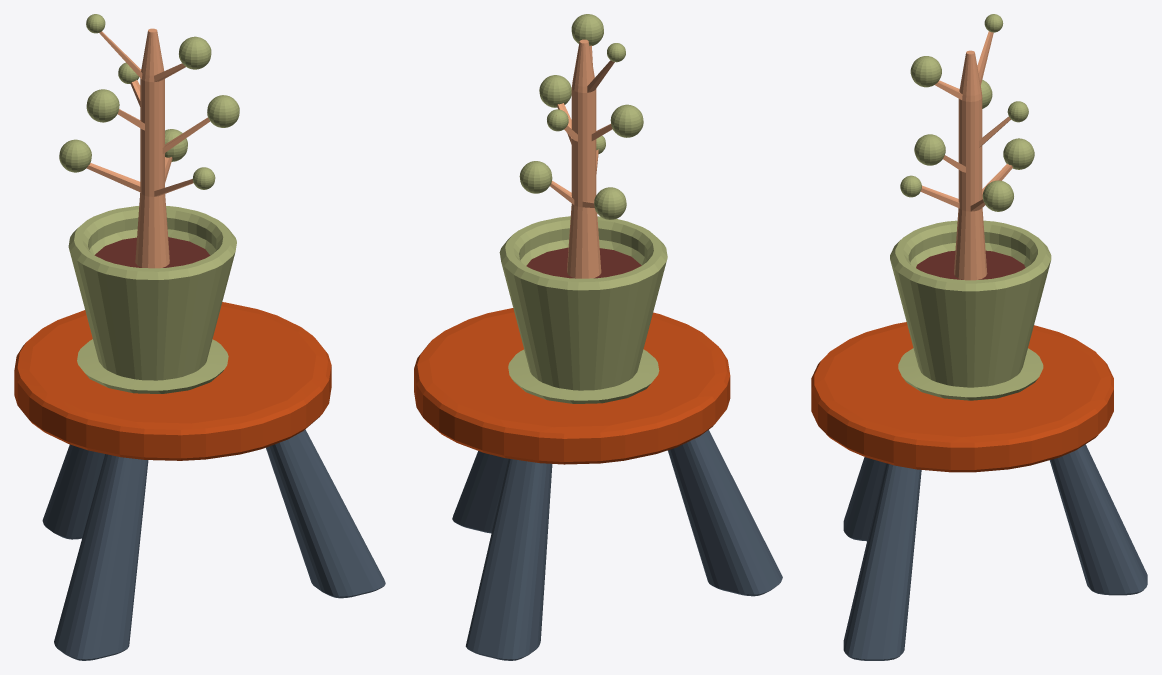
File: pot_table_entrance.fbx
3 views of the same model, side by side, from view 1: azimuth 30°, elevation 25°; view 2: azimuth 150°, elevation 25°; view 3: azimuth 270°, elevation 25° (orthographic). The views are drawn at different scales.
Parts seen in each view (by area): view 1: pot_table_entrance, Cube.037, Cube.027, Cube.023, Cube.021; view 2: pot_table_entrance, Cube.037, Cube.027, Cube.023, Cube.021; view 3: pot_table_entrance, Cube.037, Cube.027, Cube.023, Cube.021.
Boxes of the visible parts, box(x1,y1,x2,y2) form: pot_table_entrance: box(14, 302, 331, 460); Cube.037: box(59, 14, 239, 393); Cube.027: box(42, 429, 385, 660); Cube.023: box(86, 28, 210, 268); Cube.021: box(94, 237, 210, 267); pot_table_entrance: box(414, 308, 730, 464); Cube.037: box(499, 14, 667, 403); Cube.027: box(452, 430, 782, 660); Cube.023: box(550, 39, 614, 278); Cube.021: box(526, 247, 641, 278); pot_table_entrance: box(811, 322, 1113, 472); Cube.037: box(890, 14, 1051, 400); Cube.027: box(843, 444, 1147, 660); Cube.023: box(920, 31, 1024, 280); Cube.021: box(916, 250, 1025, 279).
Size of the model in its own units: 59.53 by 103 by 57.23.
